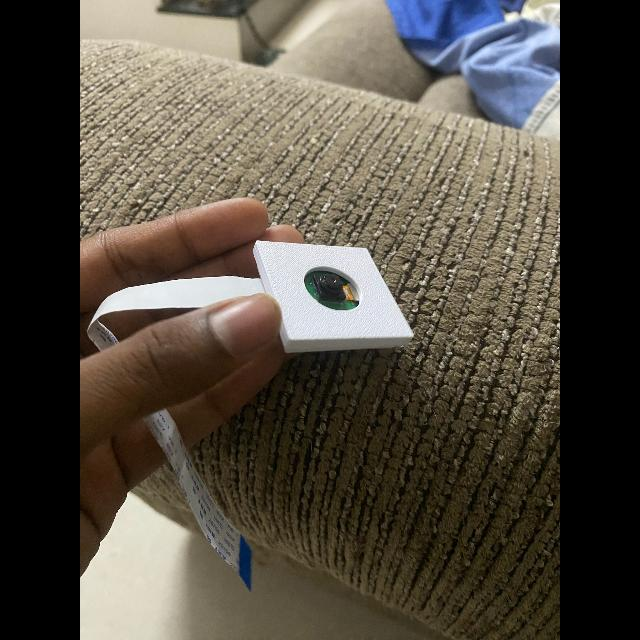RASPBERY PI CAM ENCLOSURE: (252, 240, 414, 354)
